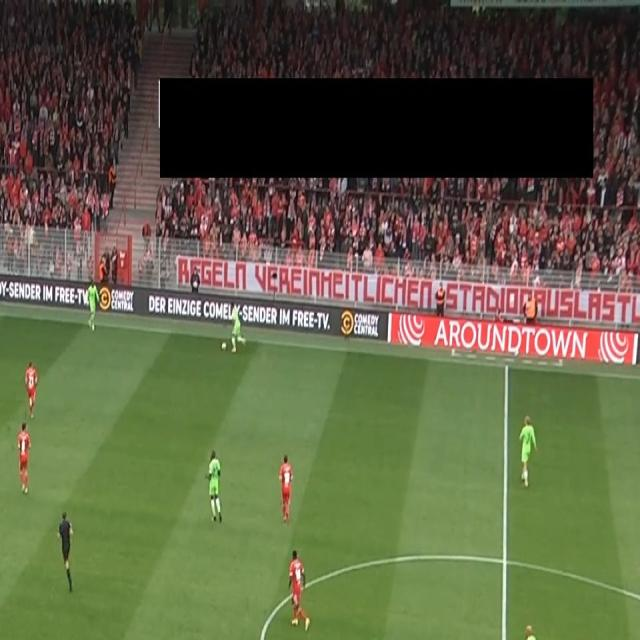ball: (220, 340, 228, 352)
